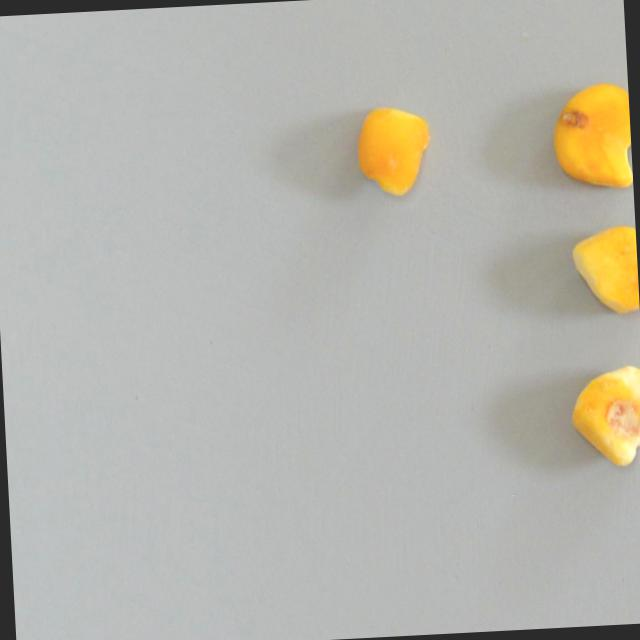dañado: (549, 82, 634, 194), (567, 363, 640, 469)
no_canjicado: (353, 104, 433, 199), (570, 224, 640, 318)
